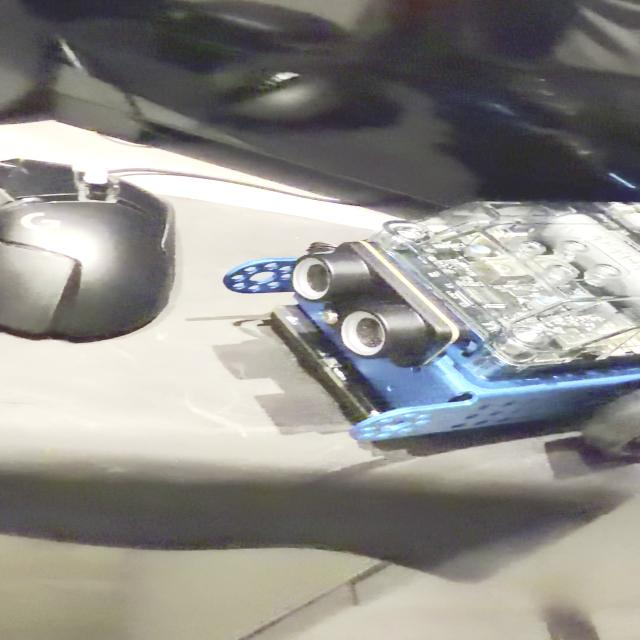mbot-detection: (220, 195, 640, 475)
